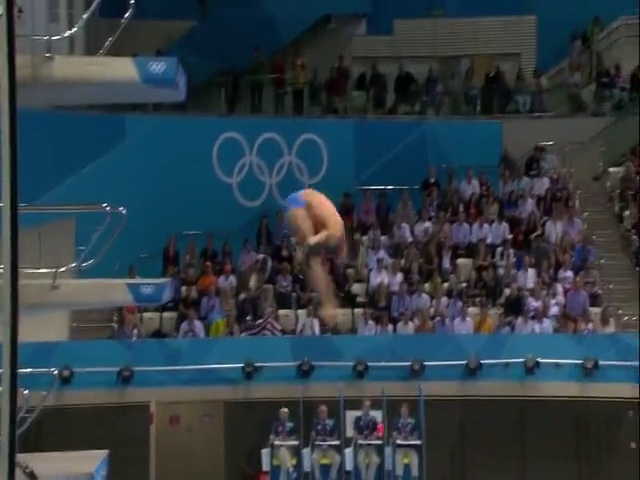diver: (282, 187, 351, 330)
